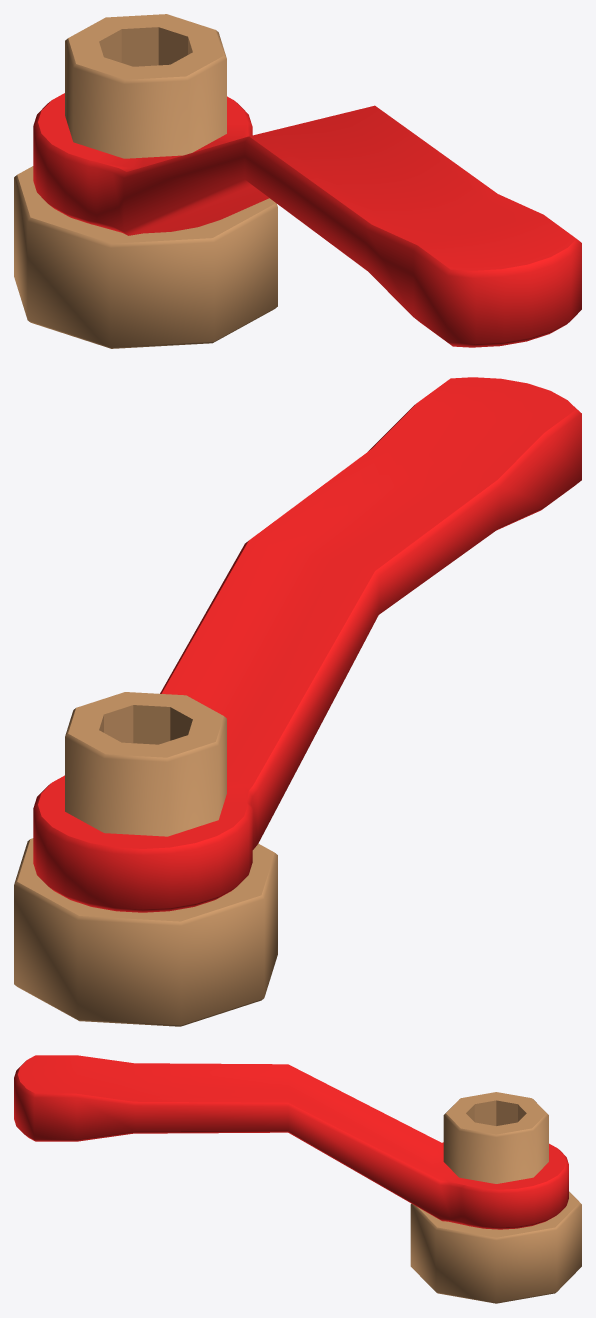
File: Valve.fbx
3 renders of one model, top to bottom at view 1: azimuth 30°, elevation 25°; view 2: azimuth 150°, elevation 25°; view 3: azimuth 270°, elevation 25°, orthographic. The views are drawn at different scales.
Visible parts, largest first — view 1: Valve; view 2: Valve; view 3: Valve.
Boxes of the visible parts, left/top/right/bottom form: Valve: left=14, top=14, right=581, bottom=348; Valve: left=14, top=377, right=581, bottom=1026; Valve: left=14, top=1055, right=581, bottom=1303.
Bounding box in the file's own units: 53.52 × 66.86 × 178.
